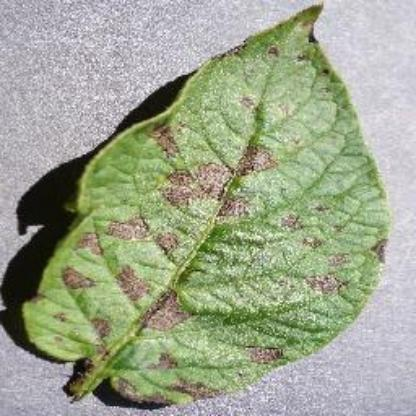Early-Blight: (17, 1, 407, 411)
